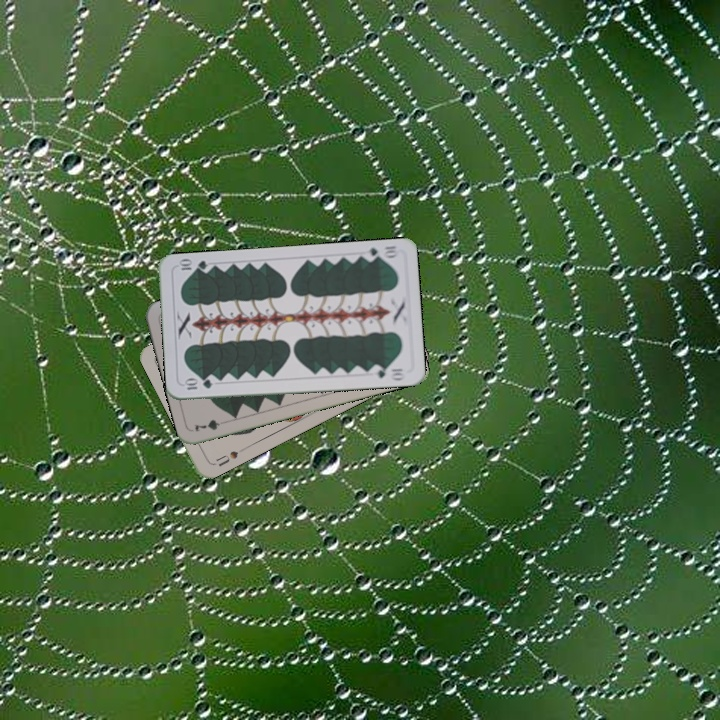G10: (360, 242, 401, 263), (180, 376, 215, 392)
G7: (191, 415, 231, 434)
SU: (209, 444, 247, 469)
